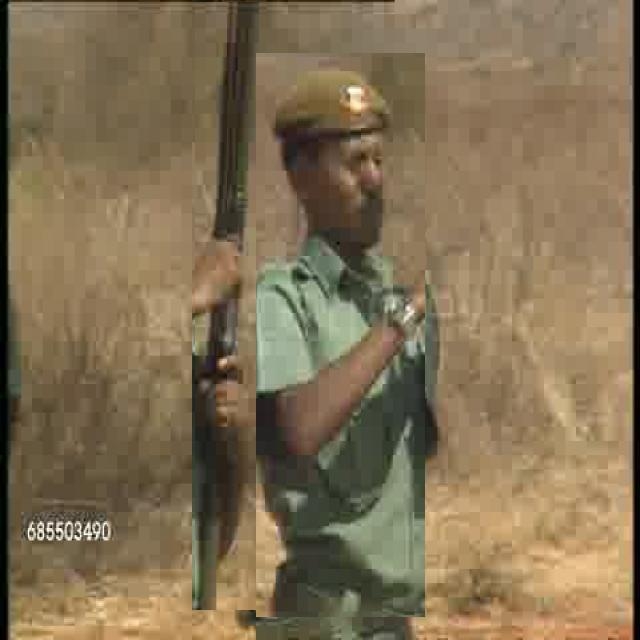poacher: (256, 53, 425, 617)
weapon: (192, 2, 259, 610)
